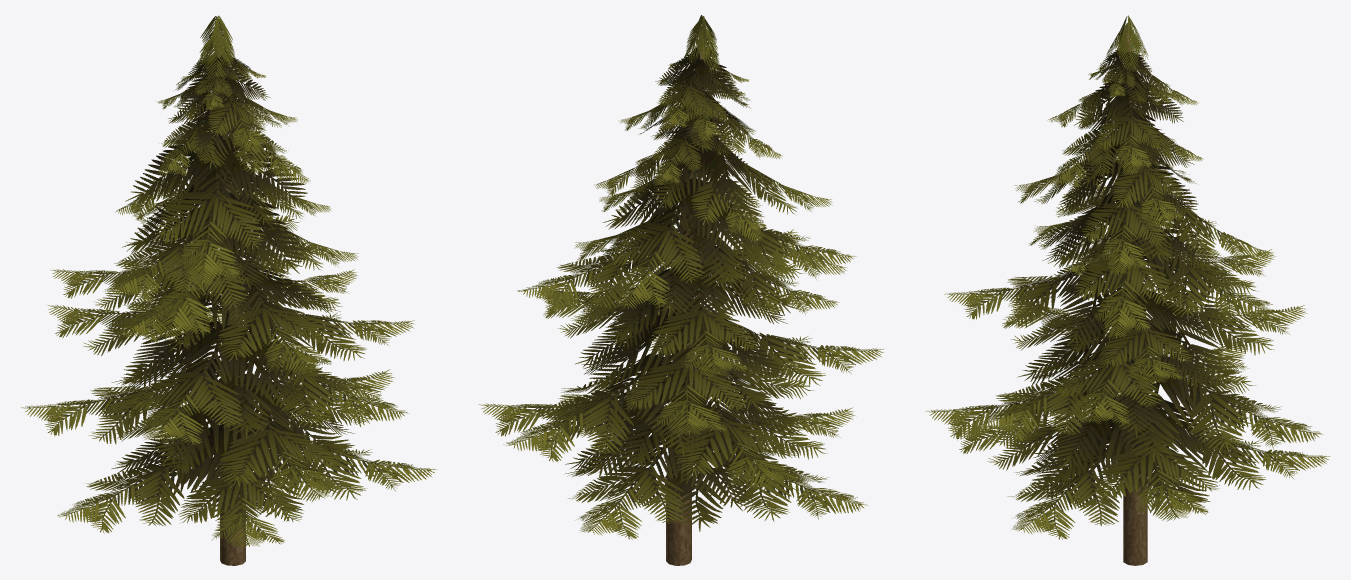
File: tree1-compressed.glb
3 views of the same model, side by side, from view 1: azimuth 30°, elevation 25°; view 2: azimuth 150°, elevation 25°; view 3: azimuth 270°, elevation 25° (orthographic). The views are drawn at different scales.
Visible parts, largest first — view 1: Leaves/001, Trank.001; view 2: Leaves/001, Trank.001; view 3: Leaves/001, Trank.001.
Boxes of the visible parts, x1,y1,x2,y2 form: Leaves/001: (21, 15, 436, 548); Trank.001: (214, 29, 245, 565); Leaves/001: (479, 15, 884, 539); Trank.001: (666, 28, 705, 565); Leaves/001: (925, 15, 1330, 539); Trank.001: (1121, 28, 1147, 565).
Bounding box in the file's own units: 217 × 308 × 217.
2 materials, 2 textured.
